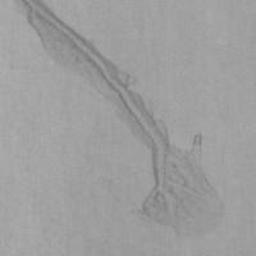Water spot: (12, 0, 228, 244)
